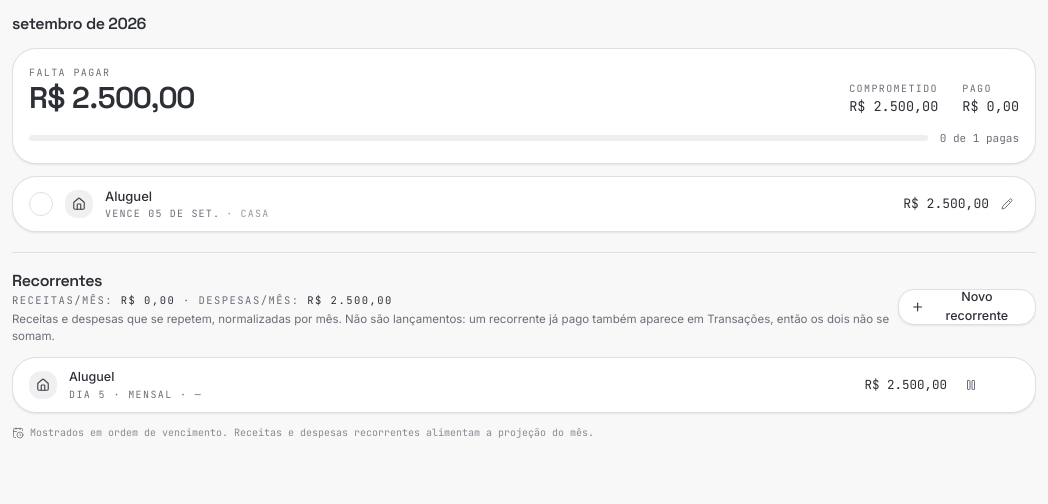
it: recurring list · a failed row action never looks like success › reports a failed pause instead of implying it happened
Expected: the text "Falta pagar" is shown, [29, 66, 110, 79]
Click the button named "pause" at [971, 385], box [959, 373, 983, 397]
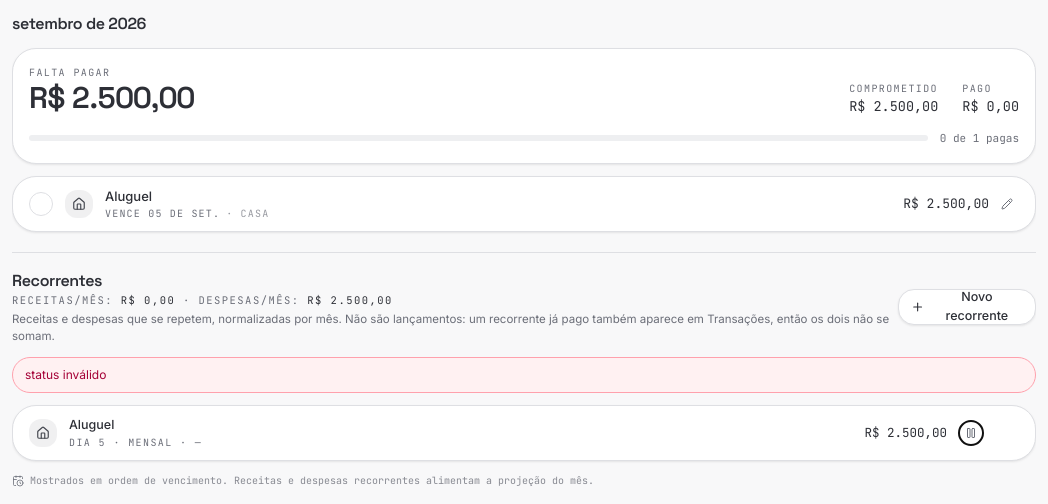
Result: the message reads "status inválido" at [25, 367, 106, 382]
